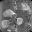people: (3, 9, 15, 18), (1, 19, 11, 28), (16, 17, 23, 25)
